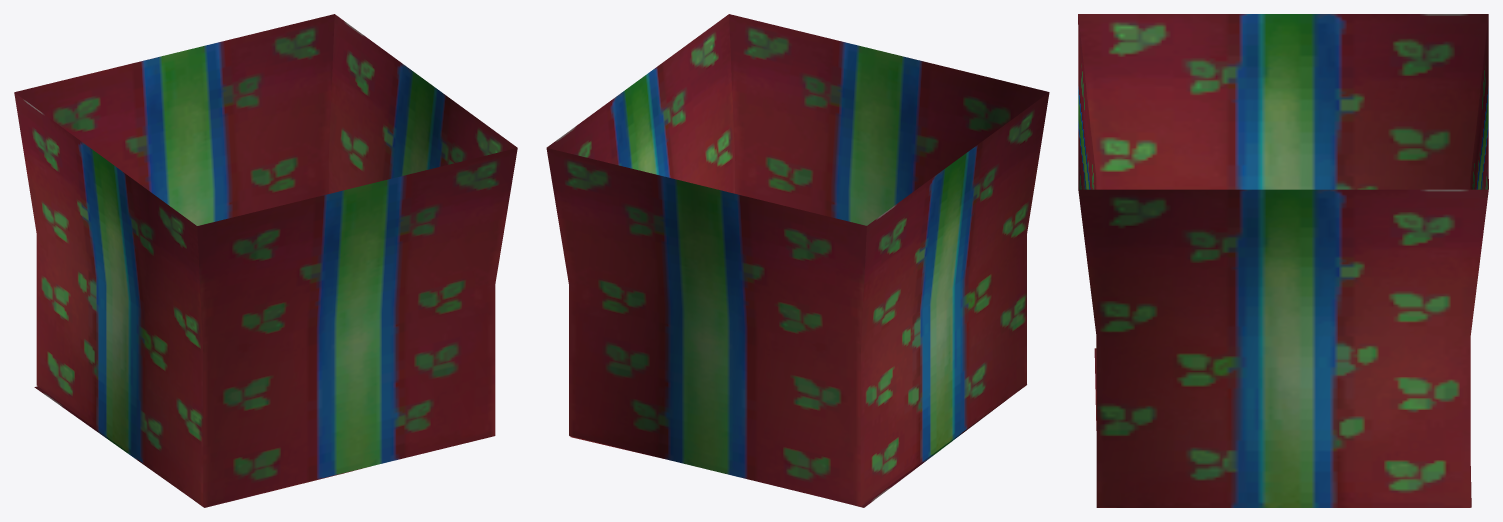
3 views of the same model, side by side, from view 1: azimuth 30°, elevation 25°; view 2: azimuth 150°, elevation 25°; view 3: azimuth 270°, elevation 25° (orthographic). The views are drawn at different scales.
Parts seen in each view (by area): view 1: element3ds.com-UC13; view 2: element3ds.com-UC13; view 3: element3ds.com-UC13.
Part boxes in pixels (<box>): element3ds.com-UC13: <box>14,14,517,507</box>; element3ds.com-UC13: <box>546,14,1049,507</box>; element3ds.com-UC13: <box>1078,14,1488,507</box>.
Bounding box in the file's own units: 2.59 × 2.25 × 2.56.
Materials: 1 (1 with a texture image).
